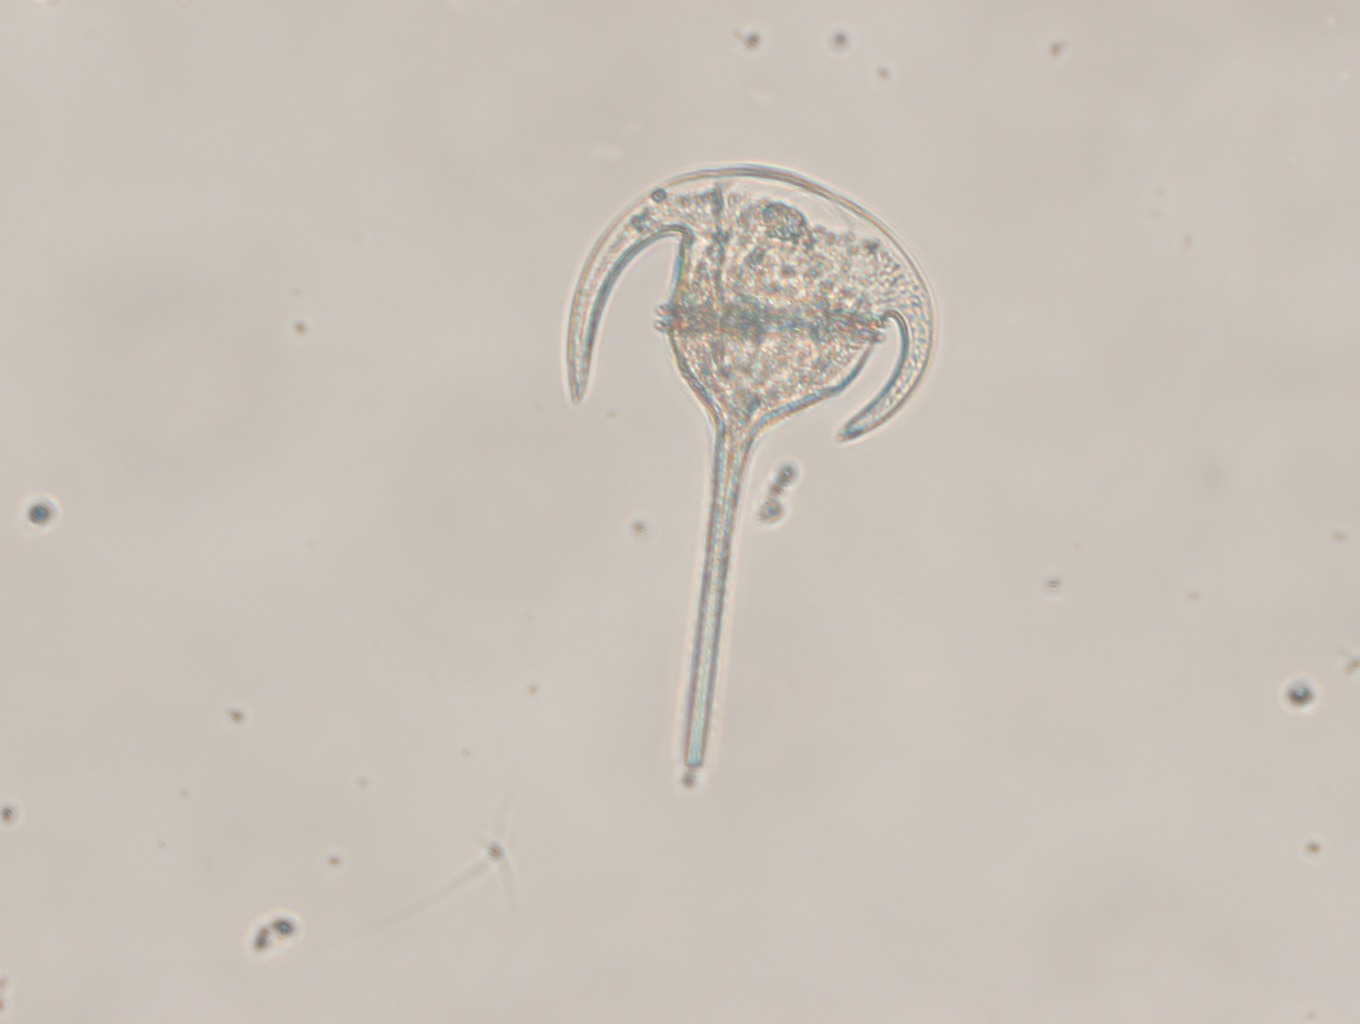ceratium tripos: (547, 155, 940, 774)
